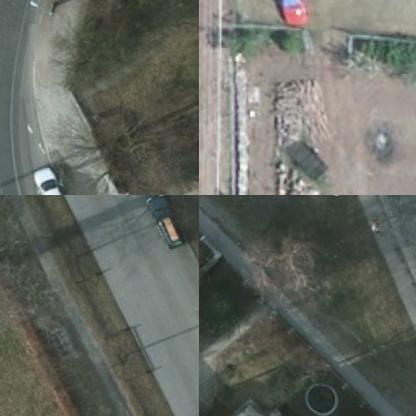car: (139, 195, 180, 238), (33, 158, 67, 194), (268, 0, 306, 24)
